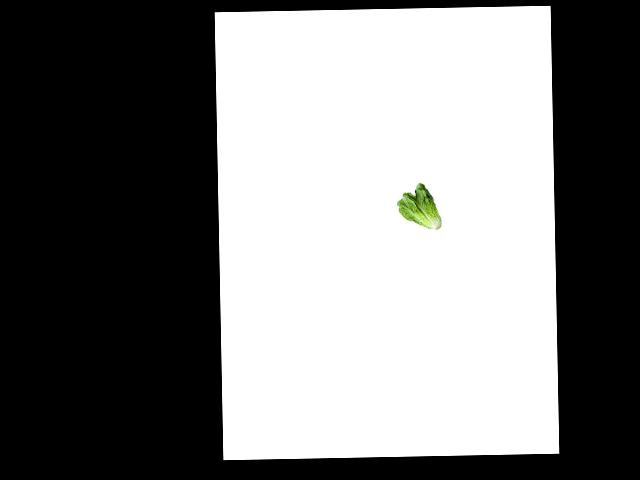lettuce: (390, 182, 442, 232)
